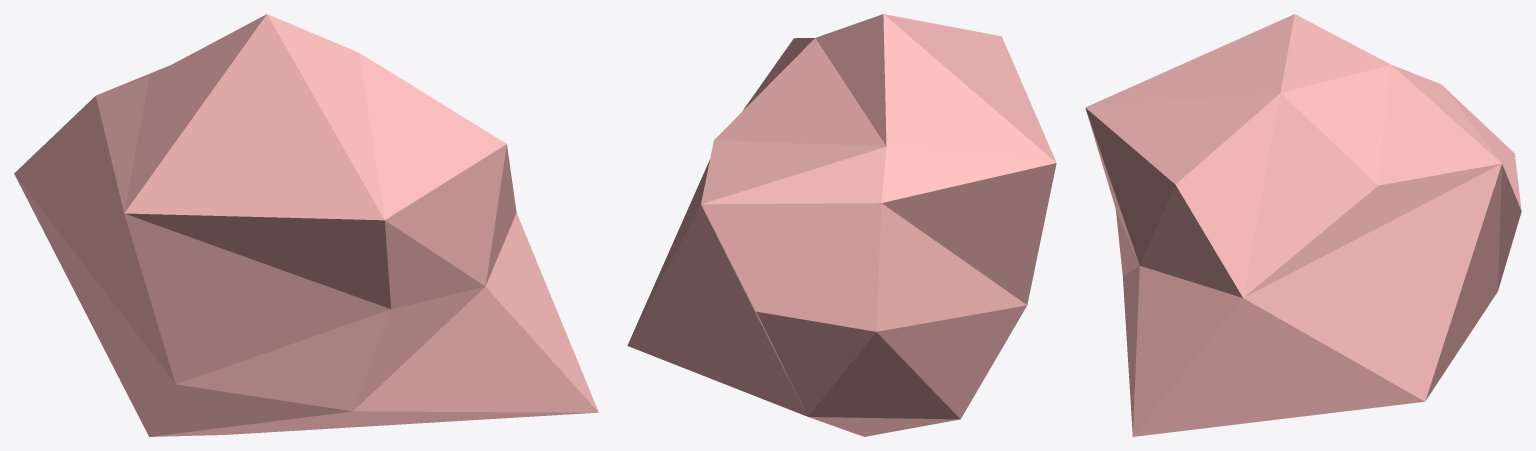
Rendered from item_heart_chunk.glb.
The picture shows the model from 3 angles, left to right: view 1: azimuth 30°, elevation 25°; view 2: azimuth 150°, elevation 25°; view 3: azimuth 270°, elevation 25°; orthographic projection. The views are drawn at different scales.
Visible parts, largest first — view 1: UraniumBlob_Med; view 2: UraniumBlob_Med; view 3: UraniumBlob_Med.
Part boxes in pixels (x1=…): UraniumBlob_Med: x1=14, y1=14, x2=598, y2=436; UraniumBlob_Med: x1=627, y1=14, x2=1056, y2=436; UraniumBlob_Med: x1=1085, y1=14, x2=1521, y2=436.
Bounding box in the file's own units: 0.226 × 0.2366 × 0.2513.
